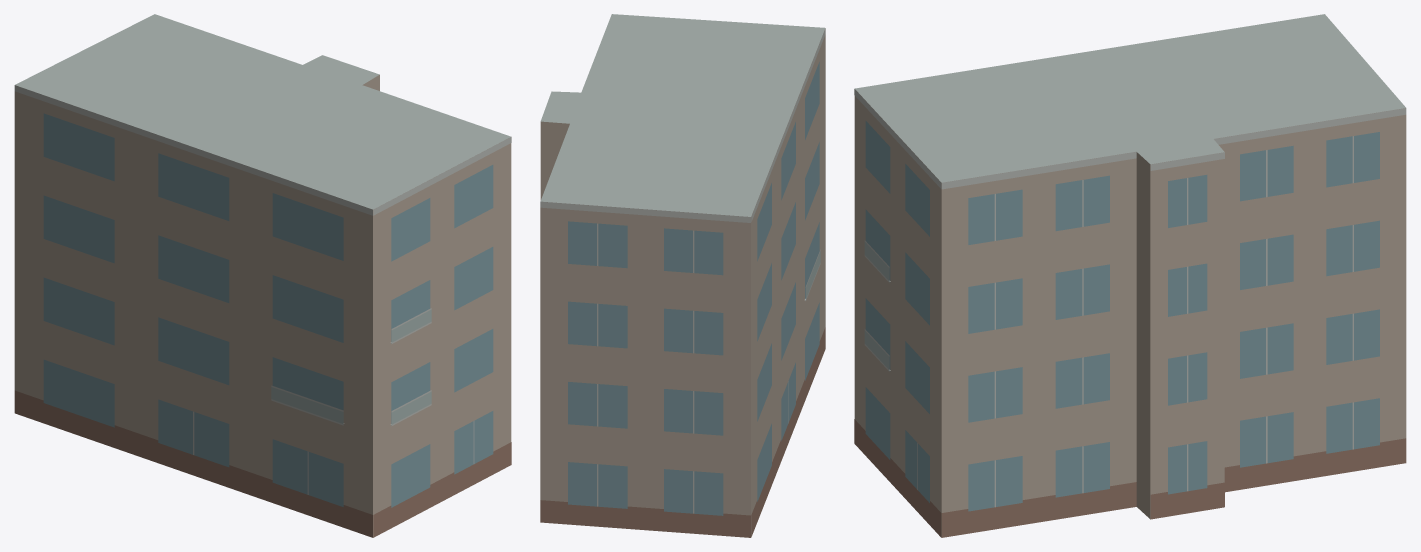
The model's file is survey-upis-32988915.glb.
3 views of the same model, side by side, from view 1: azimuth 30°, elevation 25°; view 2: azimuth 150°, elevation 25°; view 3: azimuth 270°, elevation 25° (orthographic). The views are drawn at different scales.
Parts seen in each view (by area): view 1: survey-upis-32988915.tmp; view 2: survey-upis-32988915.tmp; view 3: survey-upis-32988915.tmp.
Part boxes in pixels (x1,y1,x2,y2): survey-upis-32988915.tmp: [14, 14, 511, 537]; survey-upis-32988915.tmp: [540, 14, 825, 537]; survey-upis-32988915.tmp: [854, 14, 1406, 537].
Bounding box in the file's own units: 13.11 × 12.85 × 18.11.
